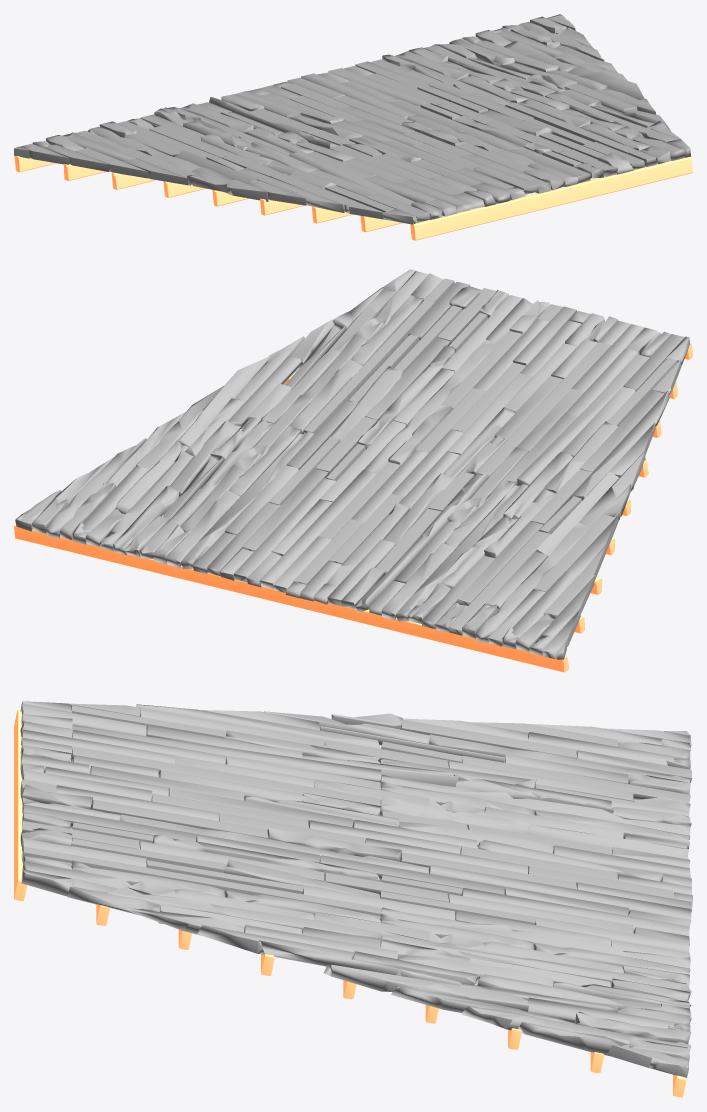
Rendered from SM_Floor_NavigationTop.fbx.
The picture shows the model from 3 angles, top to bottom: view 1: azimuth 30°, elevation 25°; view 2: azimuth 150°, elevation 25°; view 3: azimuth 270°, elevation 25°; orthographic projection. The views are drawn at different scales.
Visible parts, largest first — view 1: SM_Floor_NavigationTop_LOD0; view 2: SM_Floor_NavigationTop_LOD0; view 3: SM_Floor_NavigationTop_LOD0.
Part boxes in pixels (x1,y1,x2,y2): SM_Floor_NavigationTop_LOD0: (14,14,692,240); SM_Floor_NavigationTop_LOD0: (14,269,692,672); SM_Floor_NavigationTop_LOD0: (14,701,692,1097).
Bounding box in the file's own units: 769 × 648 × 152.
